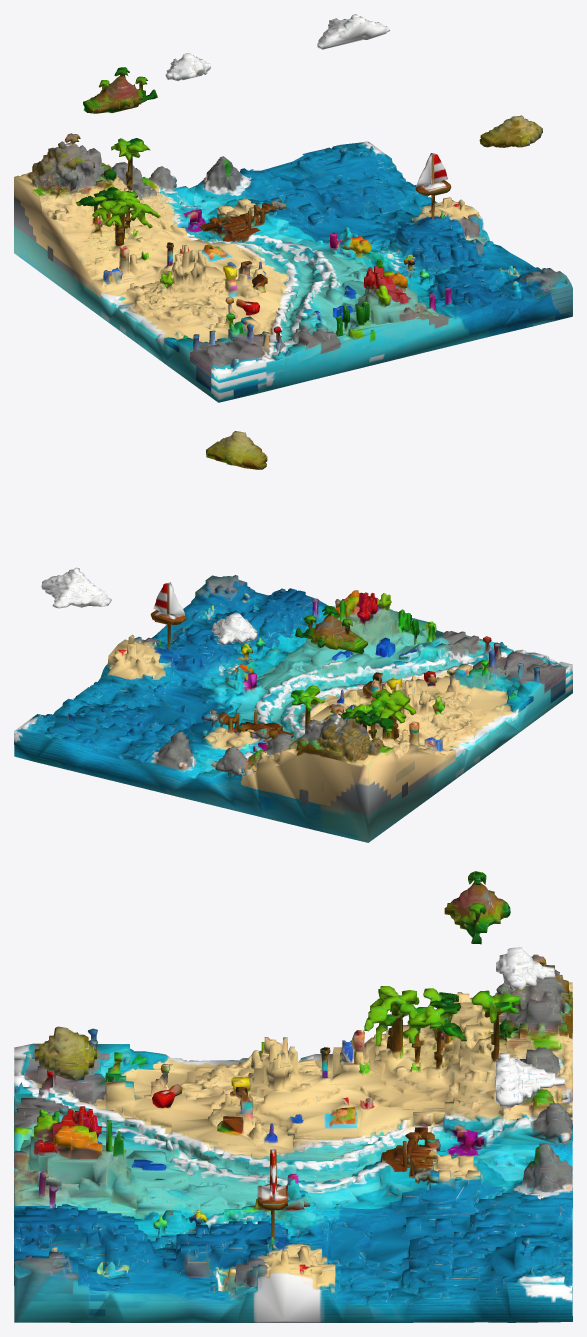
The model's file is world_model.glb.
The picture shows the model from 3 angles, top to bottom: view 1: azimuth 30°, elevation 25°; view 2: azimuth 150°, elevation 25°; view 3: azimuth 270°, elevation 25°; orthographic projection. The views are drawn at different scales.
Visible parts, largest first — view 1: Mesh_0; view 2: Mesh_0; view 3: Mesh_0.
Boxes of the visible parts, box(x1,y1,x2,y2) form: Mesh_0: box(14, 14, 572, 402); Mesh_0: box(14, 431, 572, 842); Mesh_0: box(14, 871, 572, 1322).
Size of the model in its own units: 1.91 by 1.01 by 1.91.
1 material, 1 textured.
